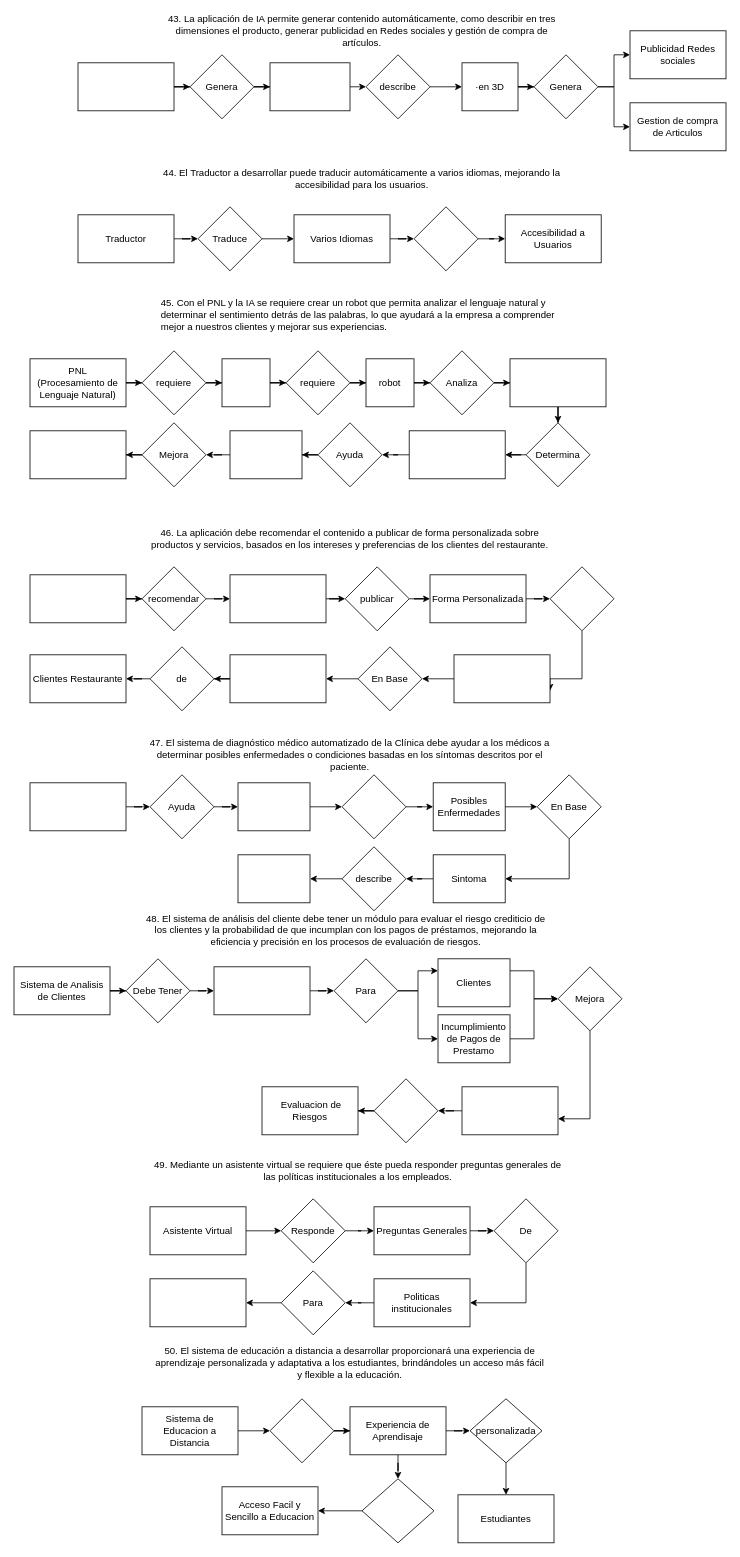
Image size: 740x1557. Some labels were removed from this diagram. The shapes that lost their labels are listed below. From the top down, each one's centre as x and y in pixels, then its label:
At pixel 125 86: "Aplicacion de IA".
At pixel 309 86: "Producto".
At pixel 445 238: "Mejorando".
At pixel 245 382: "IA".
At pixel 557 382: "Lenguaje Natural".
At pixel 77 454: "Experiencia de Clientes".
At pixel 265 454: "Empresa".
At pixel 456 454: "Sentimiento en Palabras".
At pixel 77 598: "Aplicacion".
At pixel 277 598: "Contenido".
At pixel 581 598: "sobre".
At pixel 277 678: "Intereses, Preferencias".
At pixel 501 678: "Productos, Servicios".
At pixel 77 806: "Sistema de Diagnostico Medico Automatizado".
At pixel 273 806: "Medicos".
At pixel 373 806: "determinar".
At pixel 273 878: "Paciente".
At pixel 261 990: "Modulo de Evalucion de Riesgo".
At pixel 405 1110: "proceso".
At pixel 509 1110: "Eficiencia y Precision".
At pixel 197 1302: "Empleados".
At pixel 301 1430: "Proporciona".
At pixel 397 1510: "brinda".
